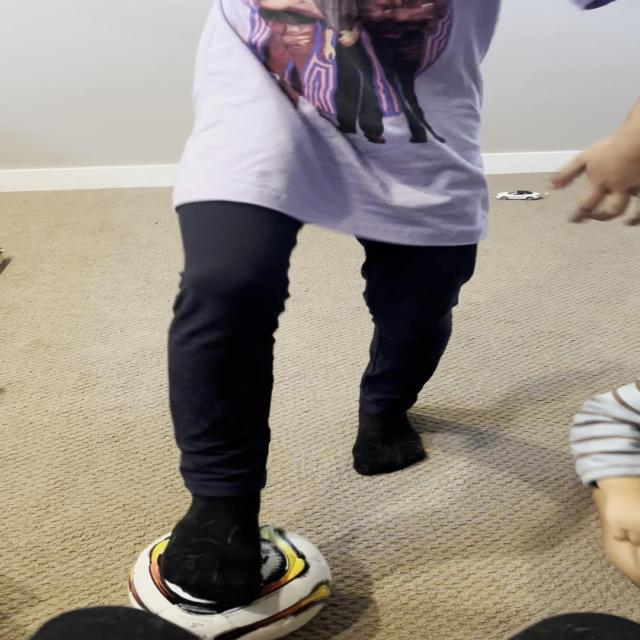Soccer Ball: (126, 524, 332, 640)
